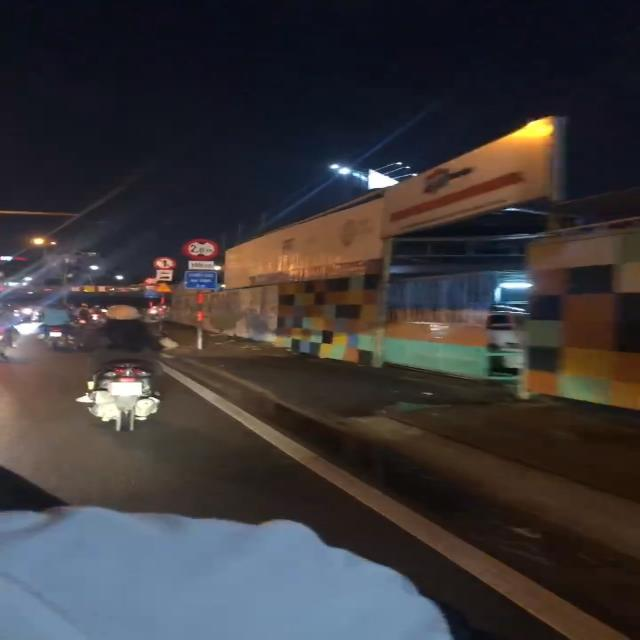Bien bao cam di thang: (150, 255, 178, 270)
Bien bao han che chieu cao: (183, 237, 219, 259)
